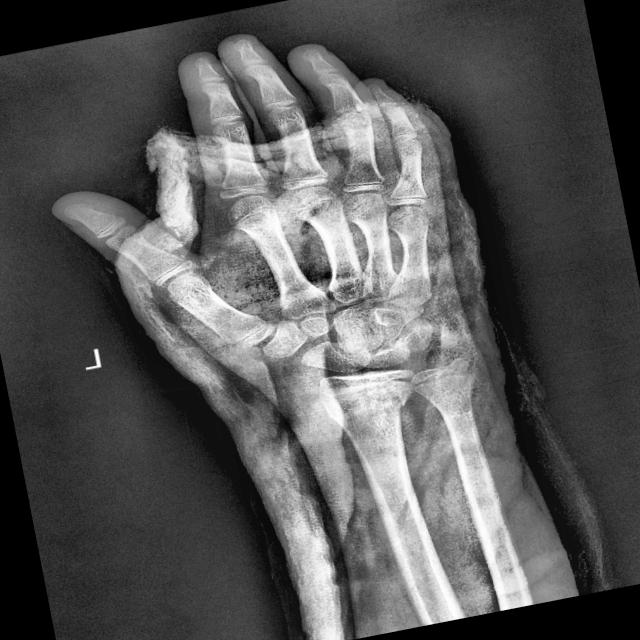Fracture: (304, 379, 416, 426)
